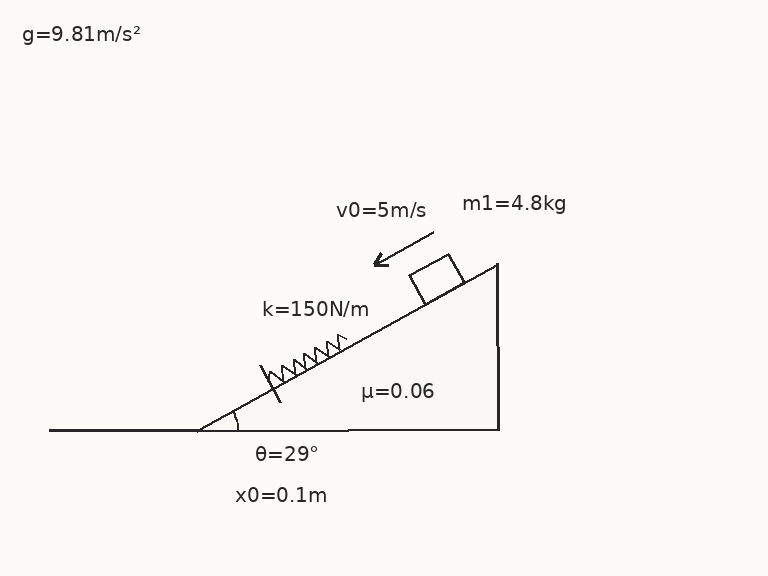block: (407, 252, 466, 306)
ramp: (196, 262, 500, 432)
spring: (267, 332, 349, 383)
